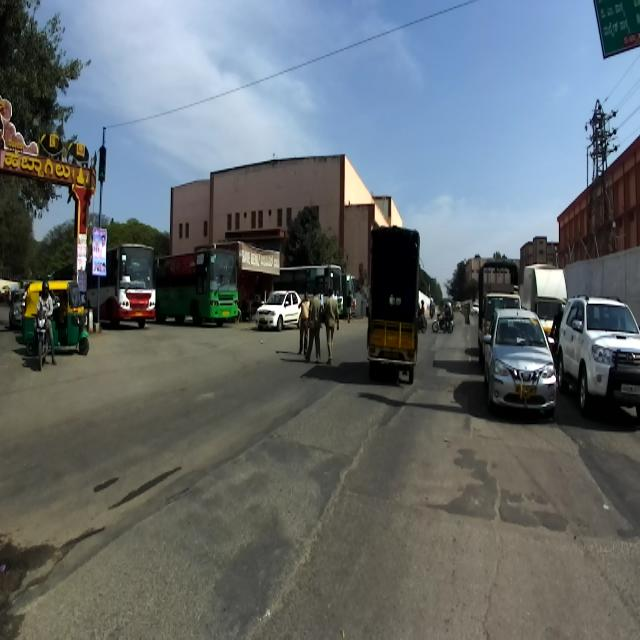auto ahead at: (52, 282, 92, 361)
car ahead at: (563, 296, 640, 418), (484, 306, 556, 411)
motorcycle ahead at: (32, 310, 52, 364)
truck ahead at: (364, 217, 423, 382)
